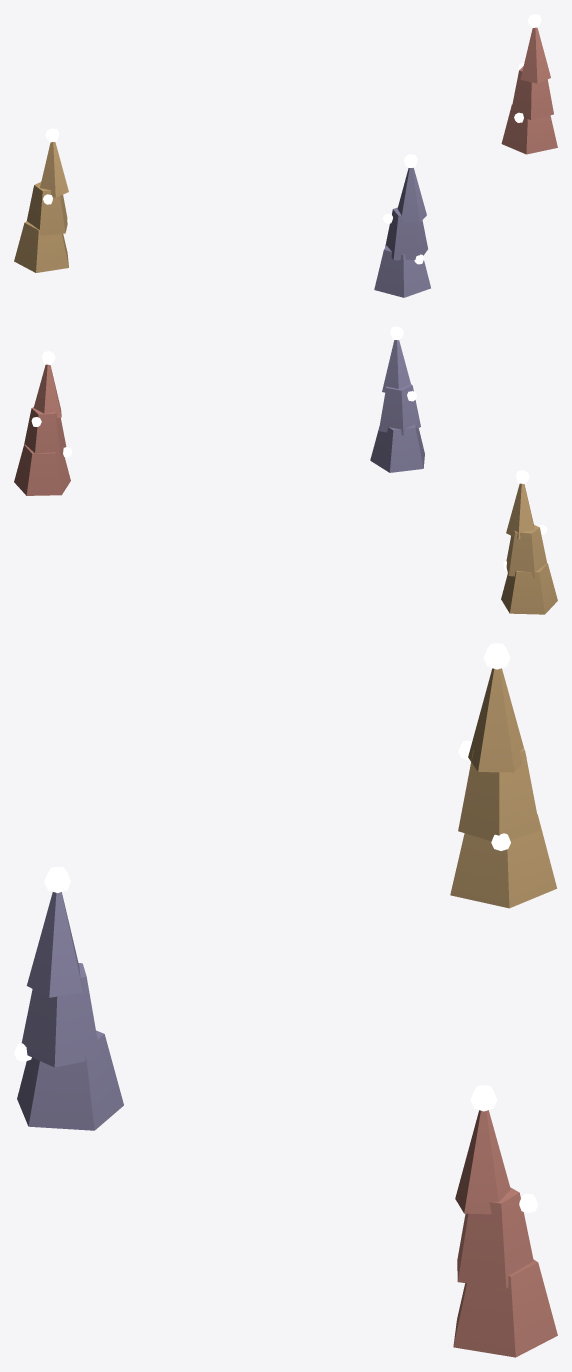
Rendered from landmark-r6-chord-spires-far.glb.
The picture shows the model from 3 angles, top to bottom: view 1: azimuth 30°, elevation 25°; view 2: azimuth 150°, elevation 25°; view 3: azimuth 270°, elevation 25°; orthographic projection. The views are drawn at different scales.
Parts seen in each view (by area): view 1: Static_far, Glow_far; view 2: Static_far, Glow_far; view 3: Static_far, Glow_far.
Part boxes in pixels (box(x1,y1,x2,y2)): Static_far: box(14, 27, 557, 297); Glow_far: box(43, 14, 541, 264); Static_far: box(14, 340, 557, 614); Glow_far: box(31, 326, 547, 570); Static_far: box(17, 668, 557, 1357); Glow_far: box(14, 643, 538, 1213).
Bounding box in the file's own units: 94.52 × 22.15 × 43.97.
